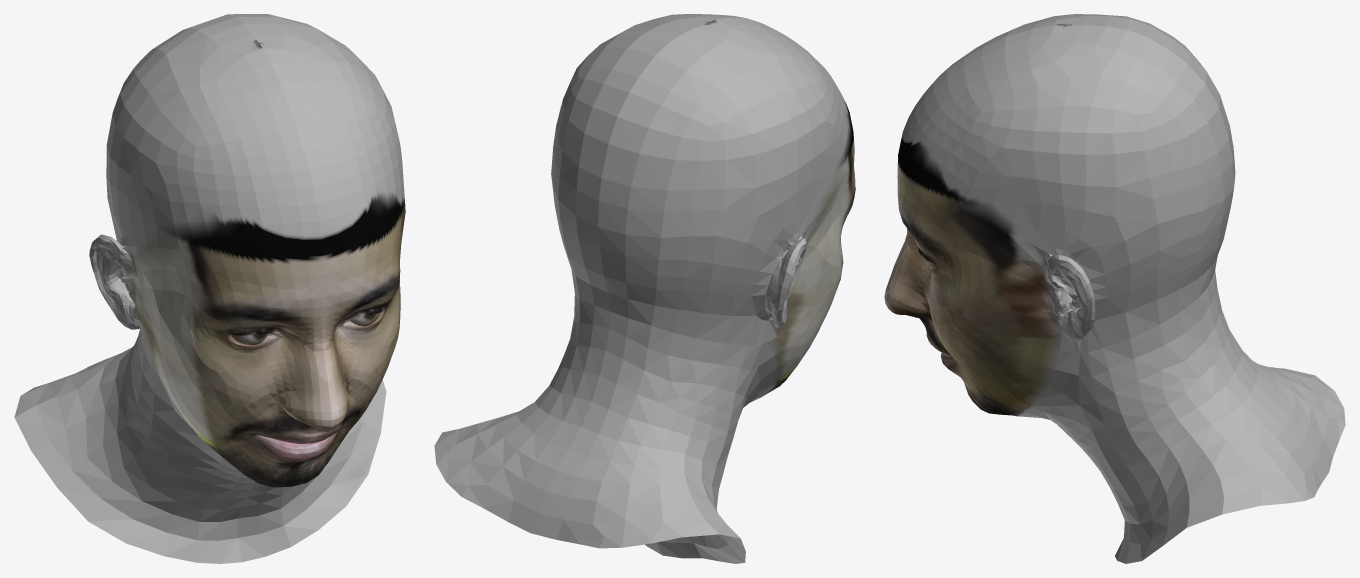
The model's file is ezgif-frame-074.obj.
3 views of the same model, side by side, from view 1: azimuth 30°, elevation 25°; view 2: azimuth 150°, elevation 25°; view 3: azimuth 270°, elevation 25° (orthographic). The views are drawn at different scales.
Bounding box in the file's own units: 0.2074 × 0.3287 × 0.2667.
Materials: 1 (1 with a texture image).
